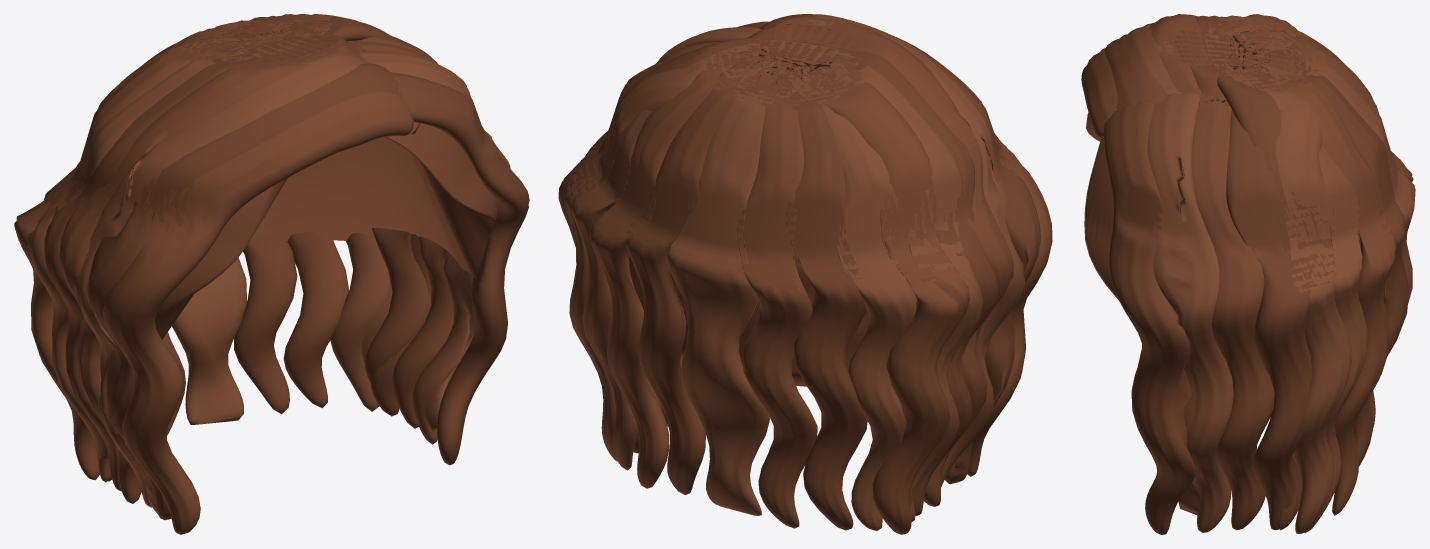
Rendered from Feminine-curls-bucket251-hair.glb.
The picture shows the model from 3 angles, left to right: view 1: azimuth 30°, elevation 25°; view 2: azimuth 150°, elevation 25°; view 3: azimuth 270°, elevation 25°; orthographic projection. The views are drawn at different scales.
Parts seen in each view (by area): view 1: 226 hair / Hair / sculpted 0.004, 226 hair / Hair / sculpted 1.008, 226 hair / Hair / sculpted 2.004, 226 hair / Hair / sculpted 1.007; view 2: 226 hair / Hair / sculpted 2.004, 226 hair / Hair / sculpted 0.004, 226 hair / Hair / sculpted 1.008, 226 hair / Hair / sculpted 1.007; view 3: 226 hair / Hair / sculpted 1.008, 226 hair / Hair / sculpted 2.004, 226 hair / Hair / sculpted 0.004, 226 hair / Hair / sculpted 1.007.
Boxes of the visible parts, x1,y1,x2,y2 form: 226 hair / Hair / sculpted 0.004: (14,14,453,534); 226 hair / Hair / sculpted 1.008: (44,16,529,520); 226 hair / Hair / sculpted 2.004: (27,14,510,507); 226 hair / Hair / sculpted 1.007: (154,123,499,339); 226 hair / Hair / sculpted 2.004: (562,14,1025,531); 226 hair / Hair / sculpted 0.004: (585,15,1052,534); 226 hair / Hair / sculpted 1.008: (558,14,1040,530); 226 hair / Hair / sculpted 1.007: (606,201,869,386); 226 hair / Hair / sculpted 1.008: (1104,15,1408,534); 226 hair / Hair / sculpted 2.004: (1125,15,1415,533); 226 hair / Hair / sculpted 0.004: (1081,14,1413,530); 226 hair / Hair / sculpted 1.007: (1084,113,1385,300).
Bounding box in the file's own units: 1.13 × 1.1 × 0.7813.
